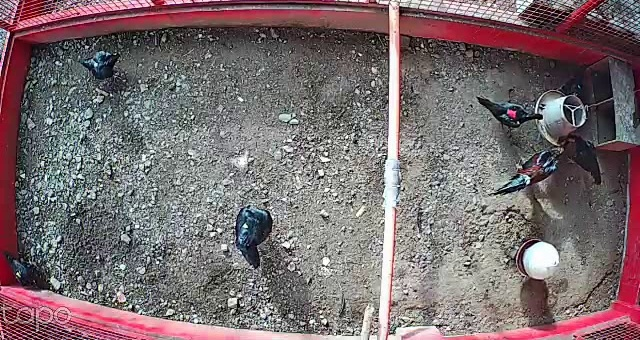Chicken: (231, 199, 284, 271), (473, 89, 544, 134), (559, 131, 607, 184), (75, 48, 128, 88), (3, 246, 45, 293)
Rooster: (490, 140, 568, 200)
Saddle_Color_Red: (505, 106, 518, 121)
Saddle_Color_Yellow: (15, 271, 21, 278)
